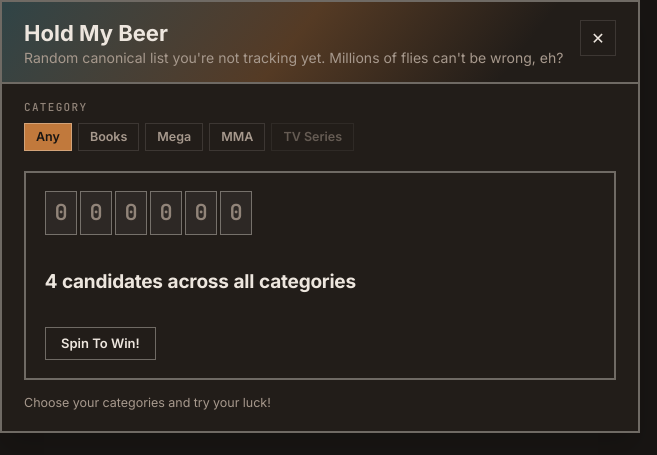
it: spinning › shows dashes for the count when the index does not carry one
Expected: the button "Spin To Win!" is shown, [45, 328, 156, 360]
What coordinates should you click on to do the following:
click the button "Books"
I would click on:
 (109, 137)
Its box is [78, 123, 139, 152].
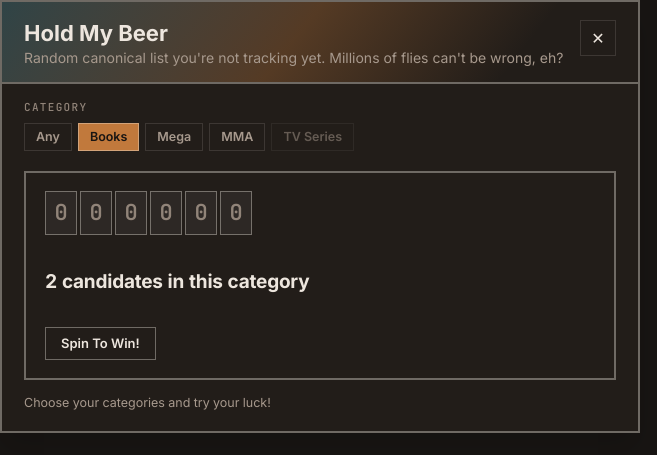
What coordinates should you click on to do the following:
click the button "Spin To Win!"
I would click on:
 (100, 344)
Its box is [45, 328, 156, 360].
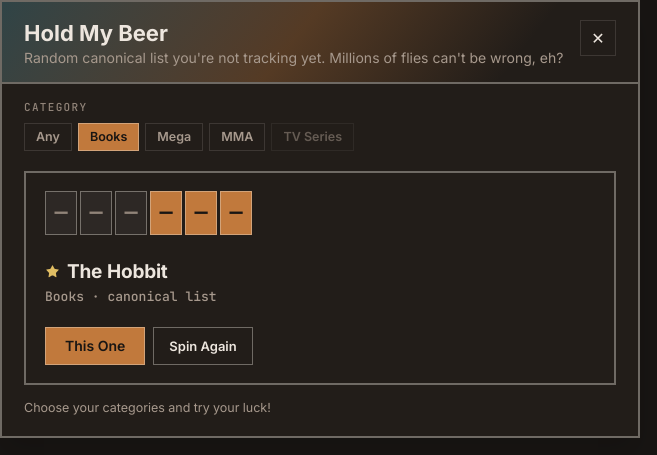
Expected: the text "The Hobbit" is shown, [67, 260, 168, 283]
Expected: the text "Books · canonical list" is shown, [45, 288, 217, 305]
